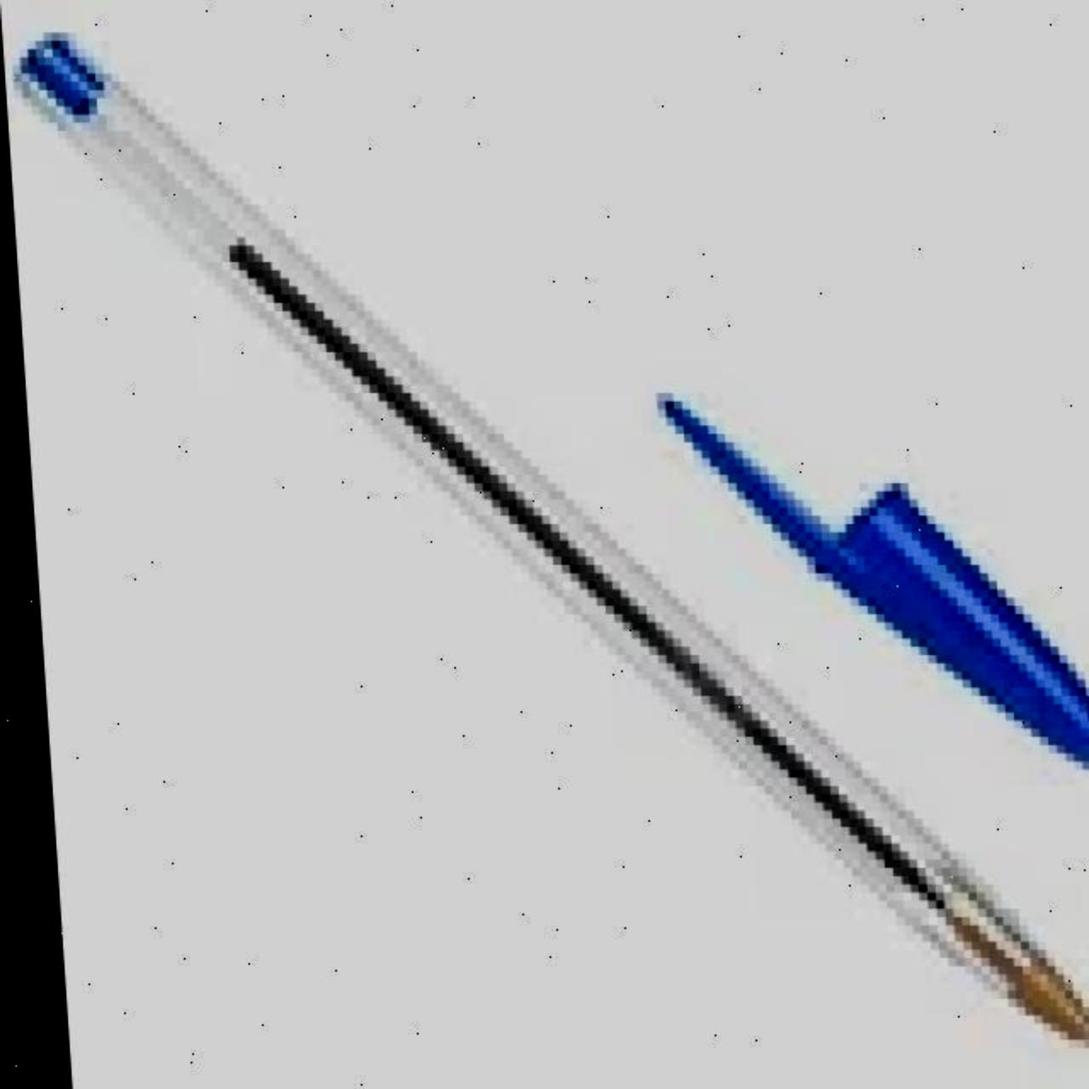pen: (7, 26, 1089, 1058)
